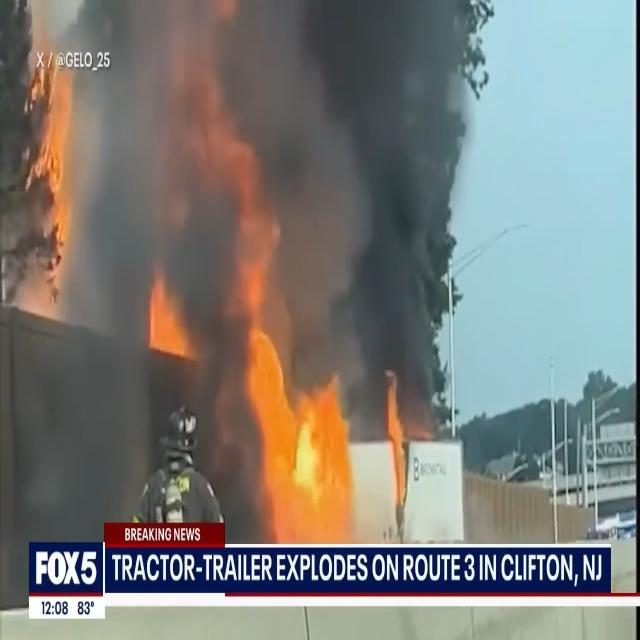fire: (245, 322, 372, 544), (207, 111, 280, 302), (32, 104, 100, 288), (138, 260, 204, 370)
